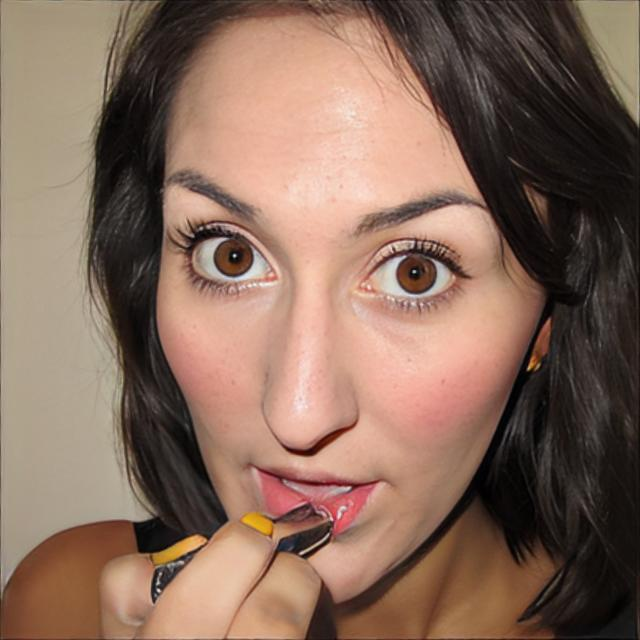surprise: (155, 7, 548, 605)
